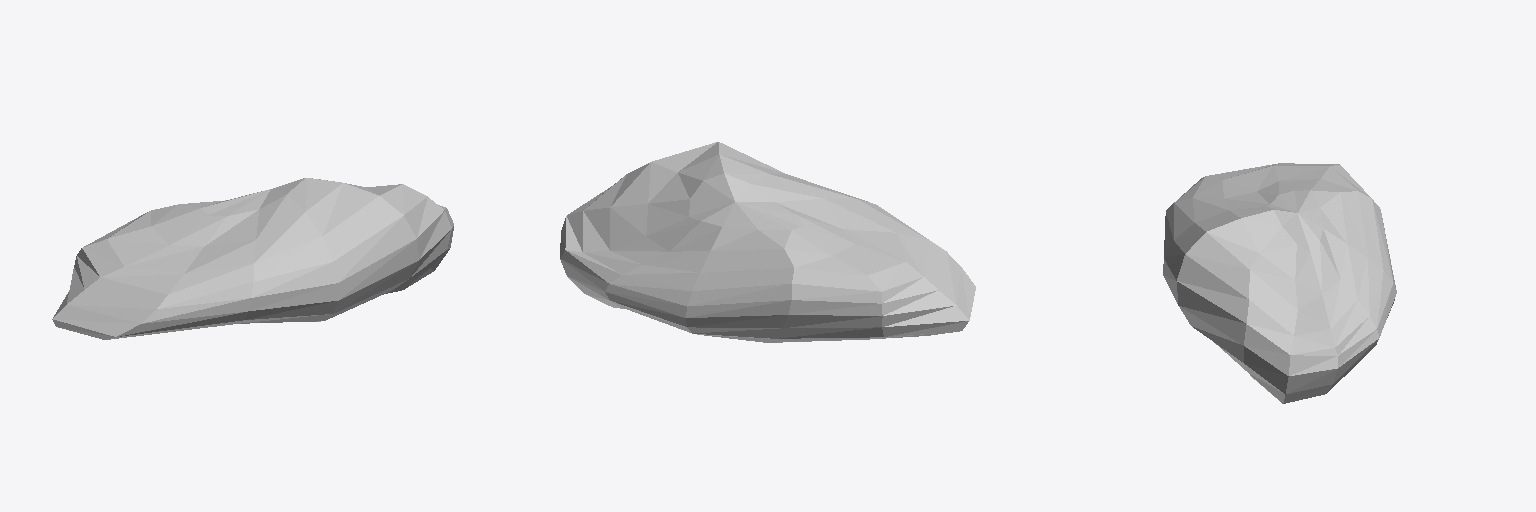
Rendered from Rock3.obj.
3 renders of one model, left to right at view 1: azimuth 30°, elevation 25°; view 2: azimuth 150°, elevation 25°; view 3: azimuth 270°, elevation 25°, orthographic.
Parts seen in each view (by area): view 1: pSphere13; view 2: pSphere13; view 3: pSphere13.
Boxes of the visible parts, x1,y1,x2,y2 form: pSphere13: [52, 178, 453, 339]; pSphere13: [560, 142, 975, 342]; pSphere13: [1163, 163, 1396, 403].
Size of the model in its own units: 4.72 by 1.58 by 2.36.